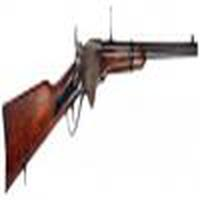gun: (1, 39, 199, 172)
